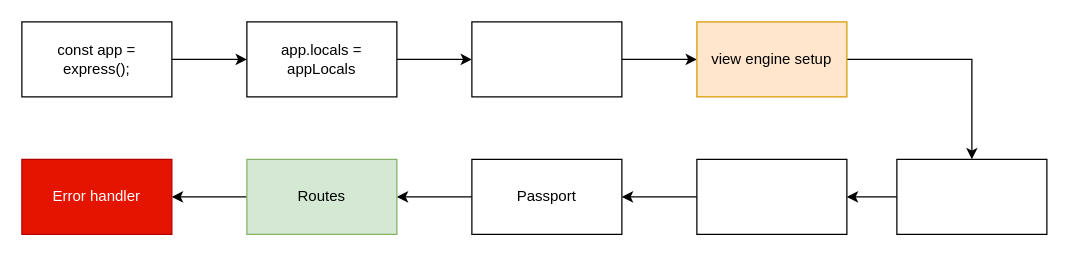
Some shapes in this 1069 by 256 pixel diagram are drawn without their labels. Each missing label, with the centre of its shape:
"add some package" goes at point (971, 196).
"connect to MongoDB" goes at point (546, 59).
"Session" goes at point (771, 196).
